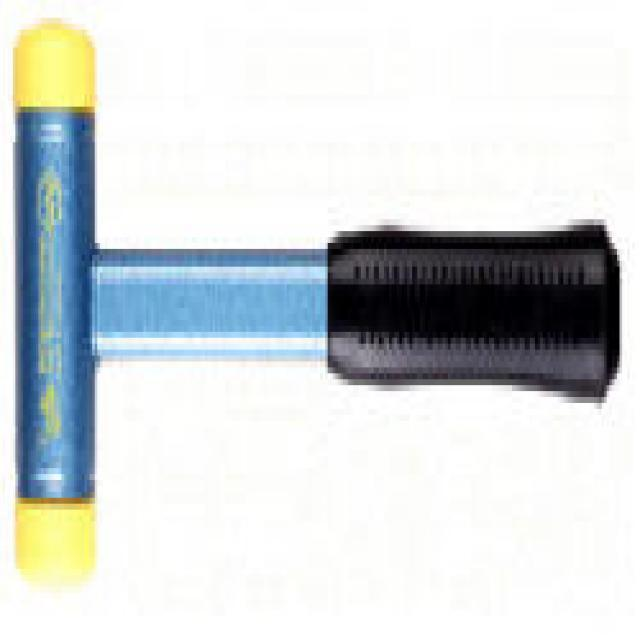hammer: (0, 14, 628, 612)
